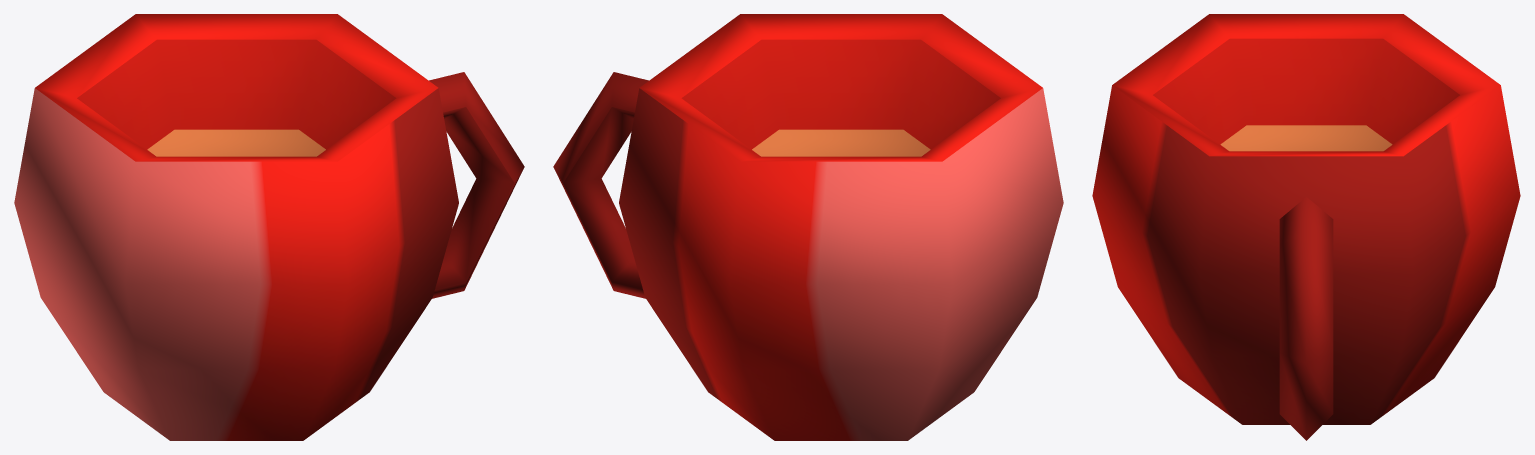
Rendered from CanecaVermelha.fbx.
The picture shows the model from 3 angles, left to right: view 1: azimuth 30°, elevation 25°; view 2: azimuth 150°, elevation 25°; view 3: azimuth 270°, elevation 25°; orthographic projection. The views are drawn at different scales.
Visible parts, largest first — view 1: CanecaVermelha; view 2: CanecaVermelha; view 3: CanecaVermelha.
Part boxes in pixels (left/top/right/bottom): CanecaVermelha: left=14, top=14, right=524, bottom=440; CanecaVermelha: left=553, top=14, right=1063, bottom=440; CanecaVermelha: left=1092, top=14, right=1520, bottom=440.
Bounding box in the file's own units: 32.14 × 20.55 × 27.22.
